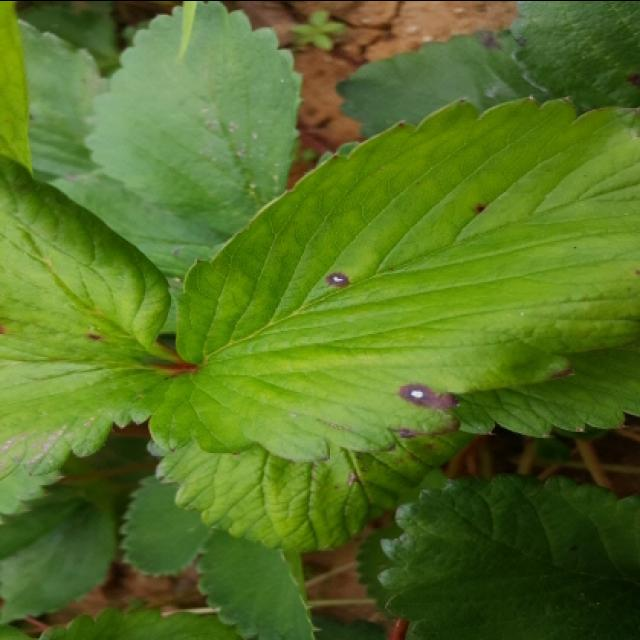Leaf Spot: (148, 93, 638, 464), (0, 150, 191, 478), (148, 429, 484, 555), (333, 28, 548, 140), (511, 0, 638, 116)
